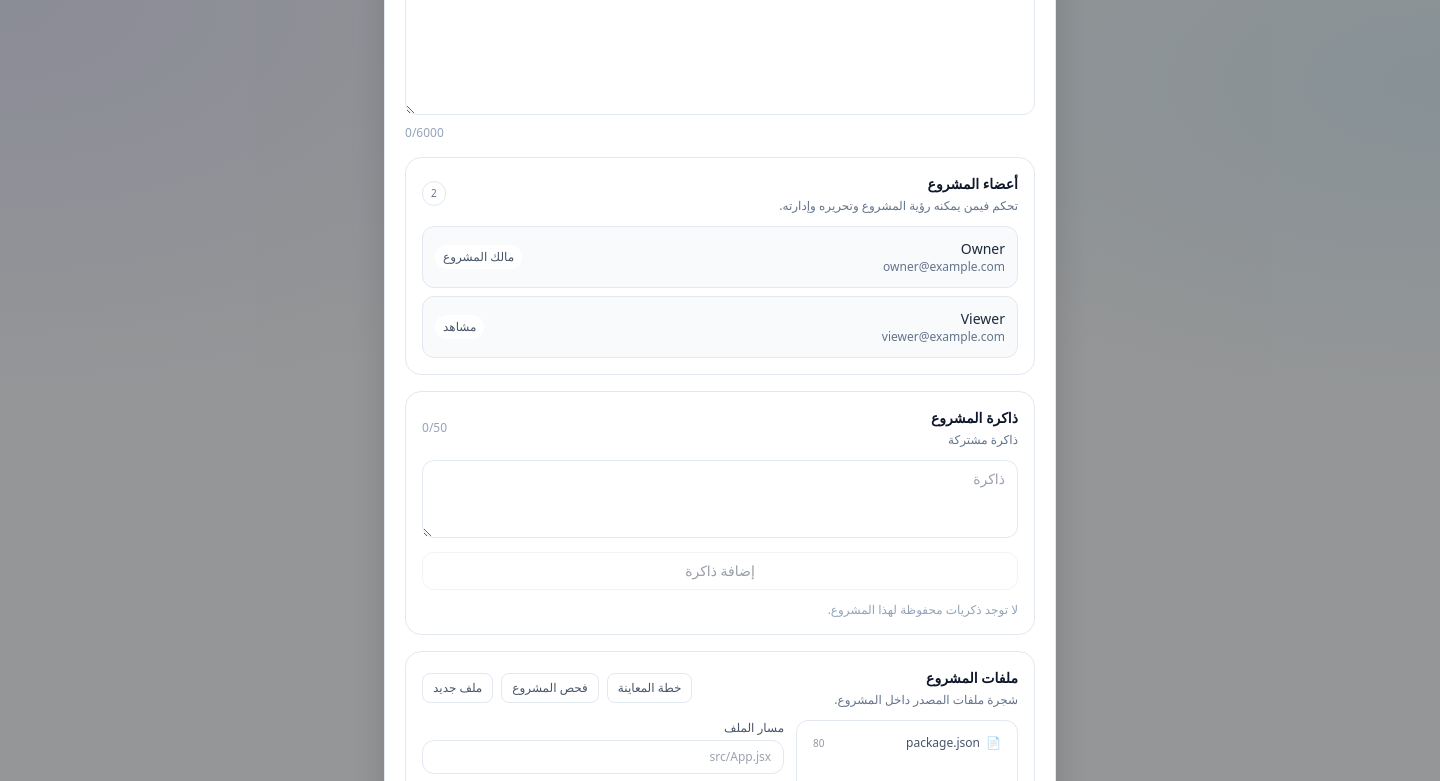
Test: ProjectEditor › loads and shows the isolated preview strategy plan
The image size is (1440, 781).
What coordinates should you click on to do the following:
click the button "خطة المعاينة"
I would click on:
 (650, 688)
Its box is [607,672,692,702].
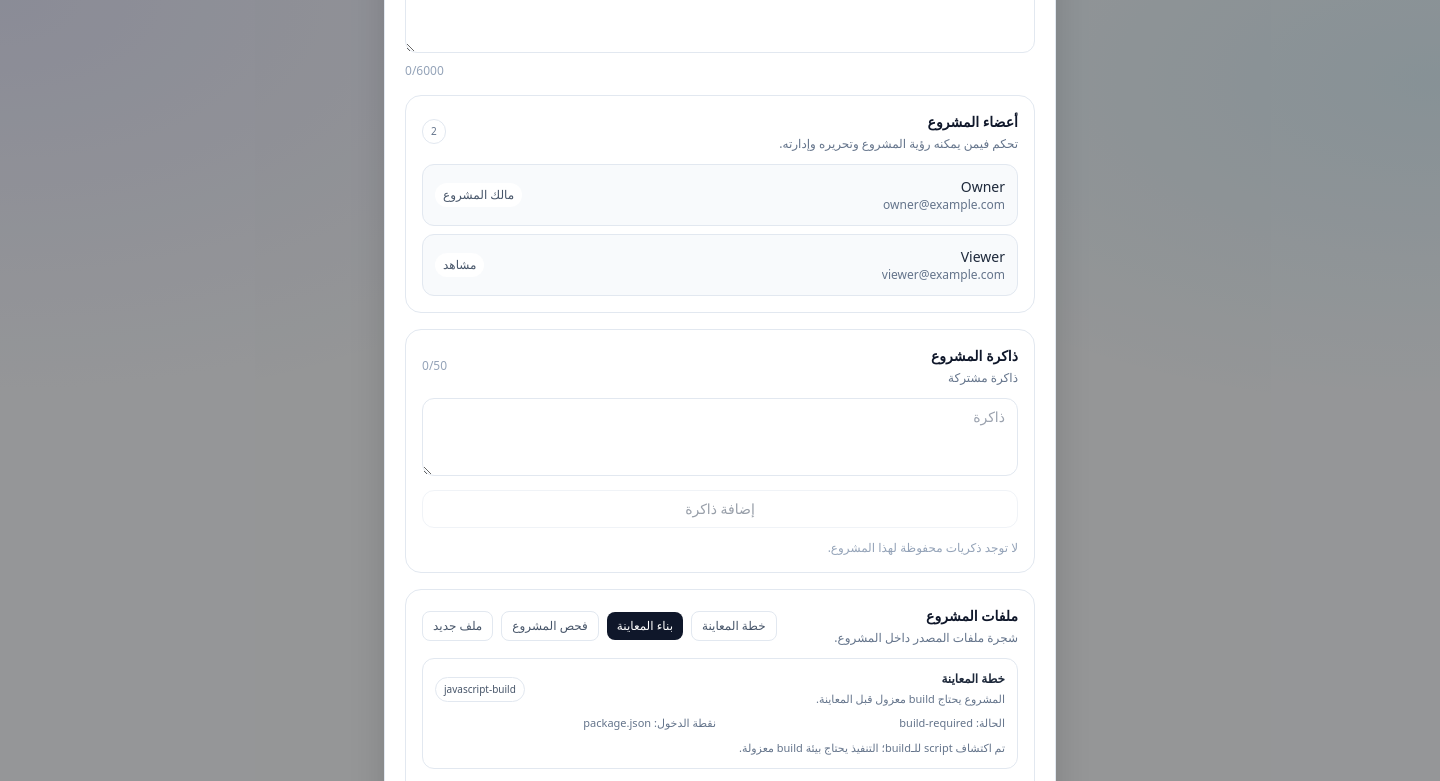
Result: the text "المشروع يحتاج build معزول قبل المعاينة." is shown at [816,691,1005,707]
Result: the text "javascript-build" is shown at [435,676,525,702]
Result: the text "تم اكتشاف script للـbuild؛ التنفيذ يحتاج بيئة build معزولة." is shown at [739,740,1005,755]
